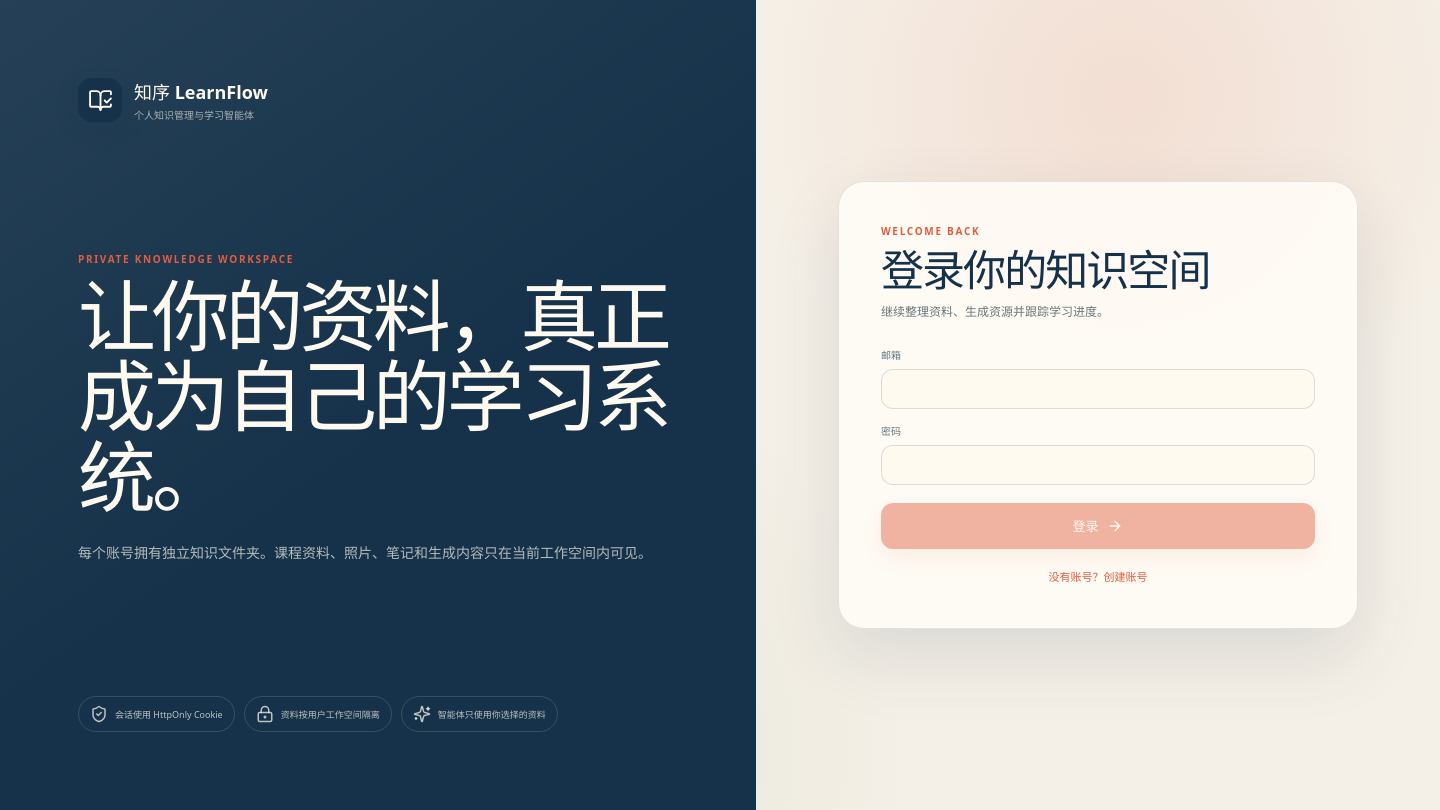
registration requires matching passwords and creates an account
The width and height of the screenshot is (1440, 810).
Click the button "没有账号？创建账号": (1098, 576) top-left (881, 567), bottom-right (1315, 585)
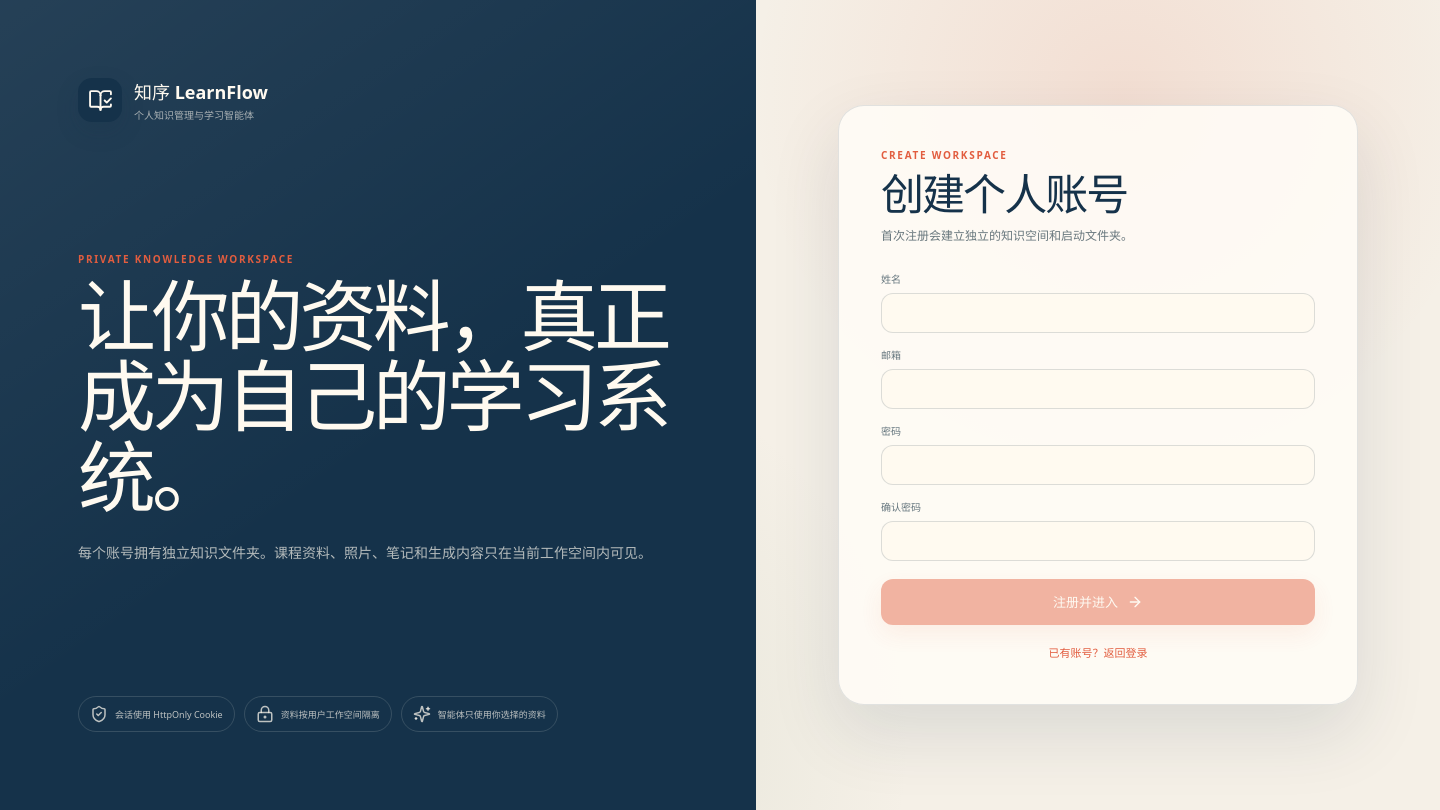
In the field labelled "姓名": (1098, 313) top-left (881, 293), bottom-right (1315, 333), type "林同学"
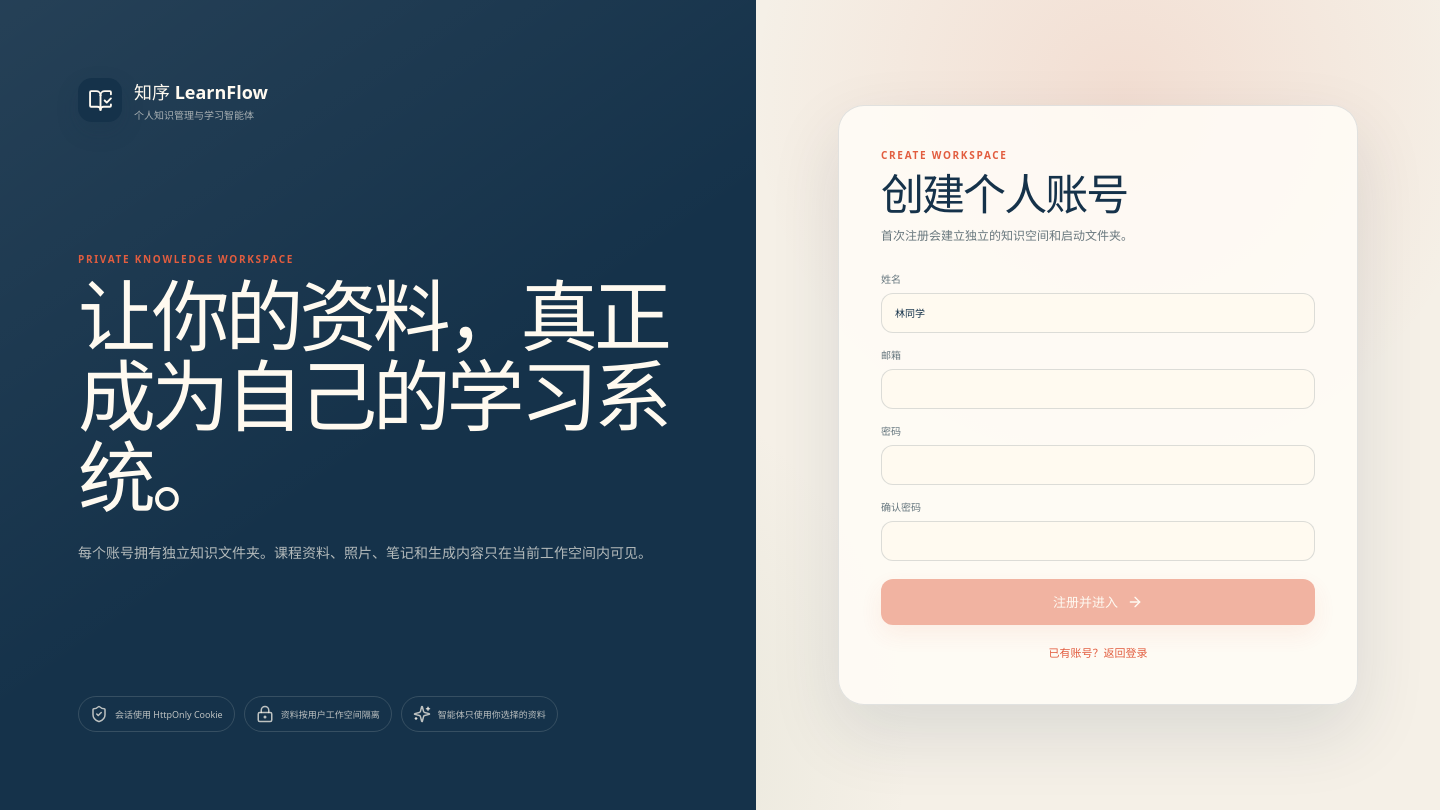
In the field labelled "邮箱": (1098, 389) top-left (881, 369), bottom-right (1315, 409), type "student@example.com"
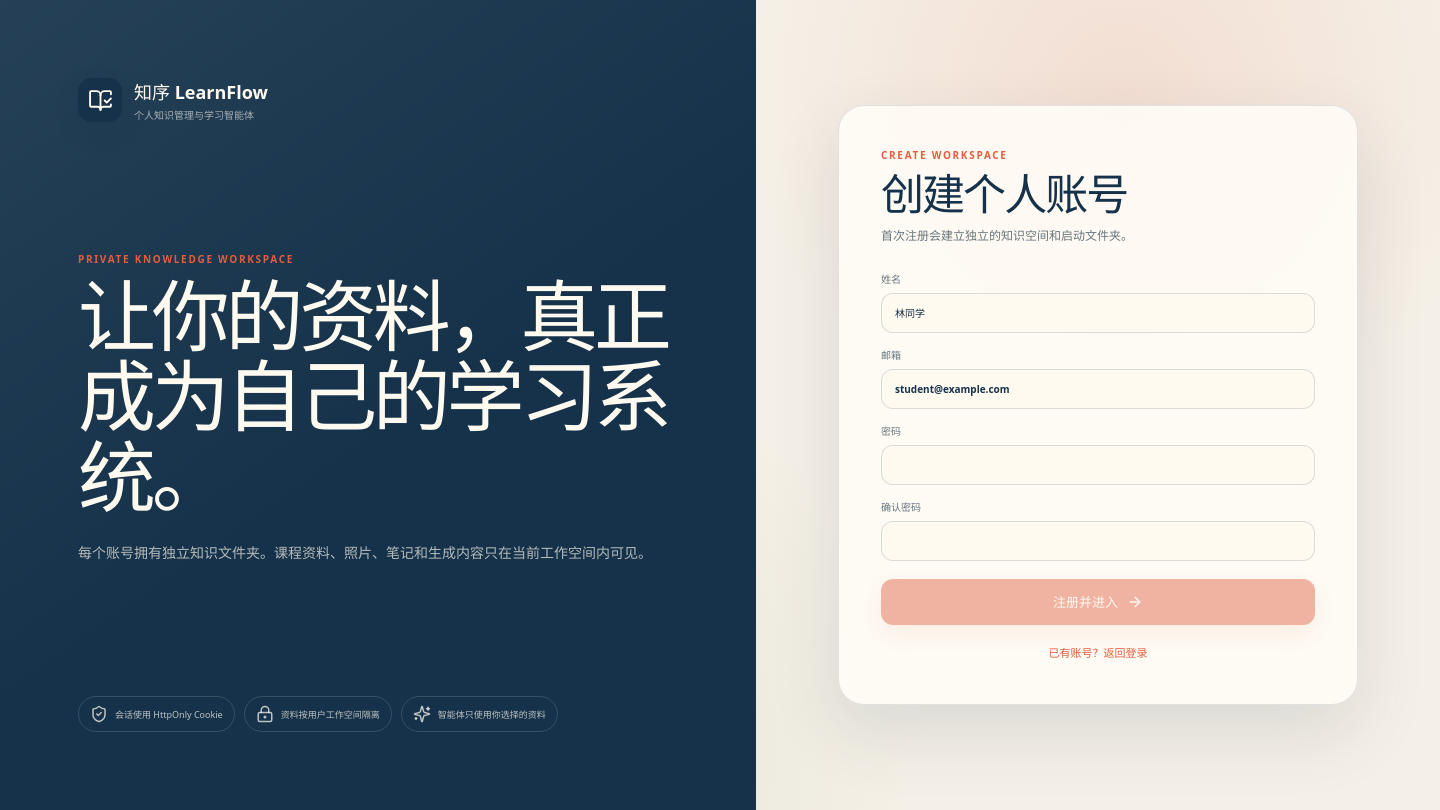
In the password field labelled "密码": (1098, 465) top-left (881, 445), bottom-right (1315, 485), type "StrongPass123"
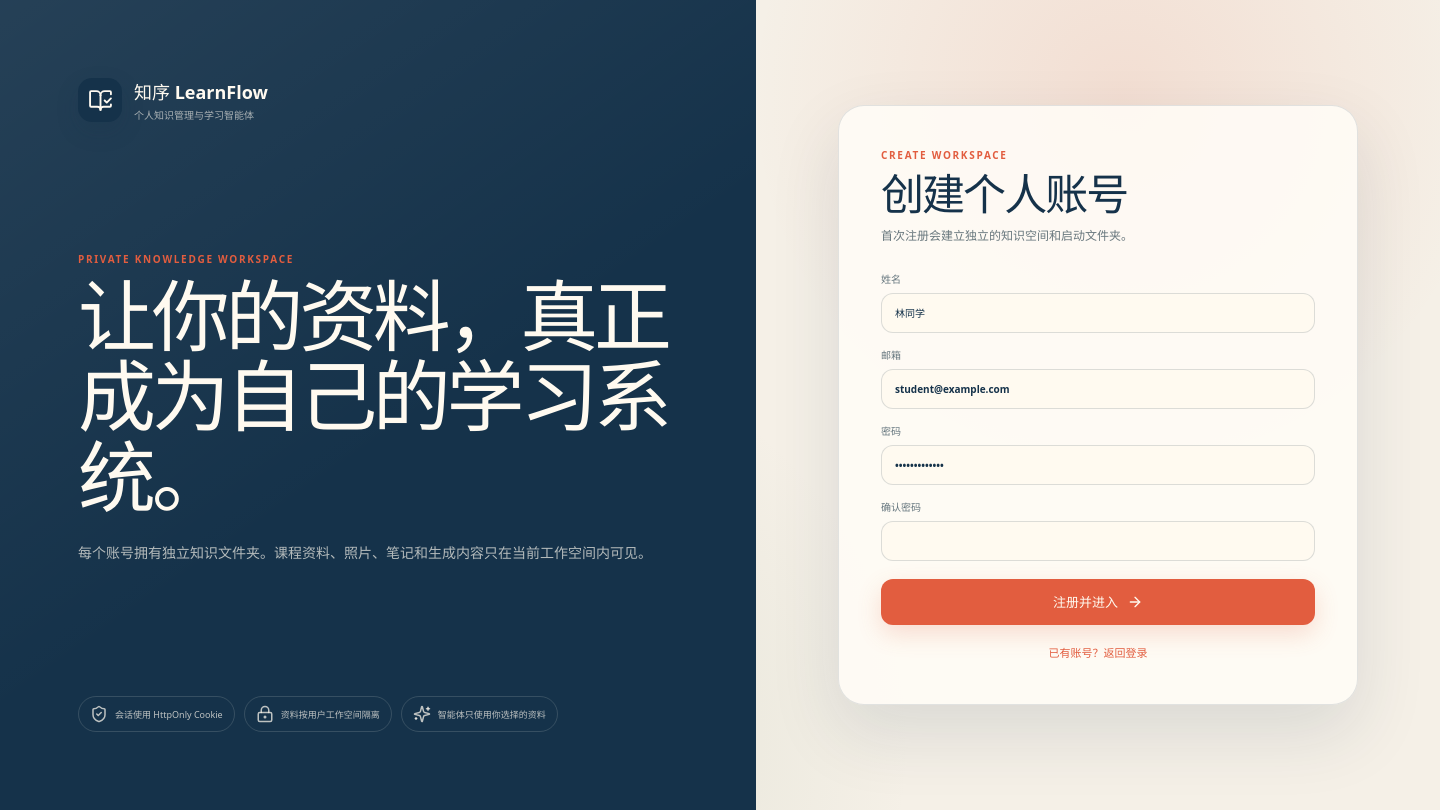
In the password field labelled "确认密码": (1098, 541) top-left (881, 521), bottom-right (1315, 561), type "DifferentPass123"
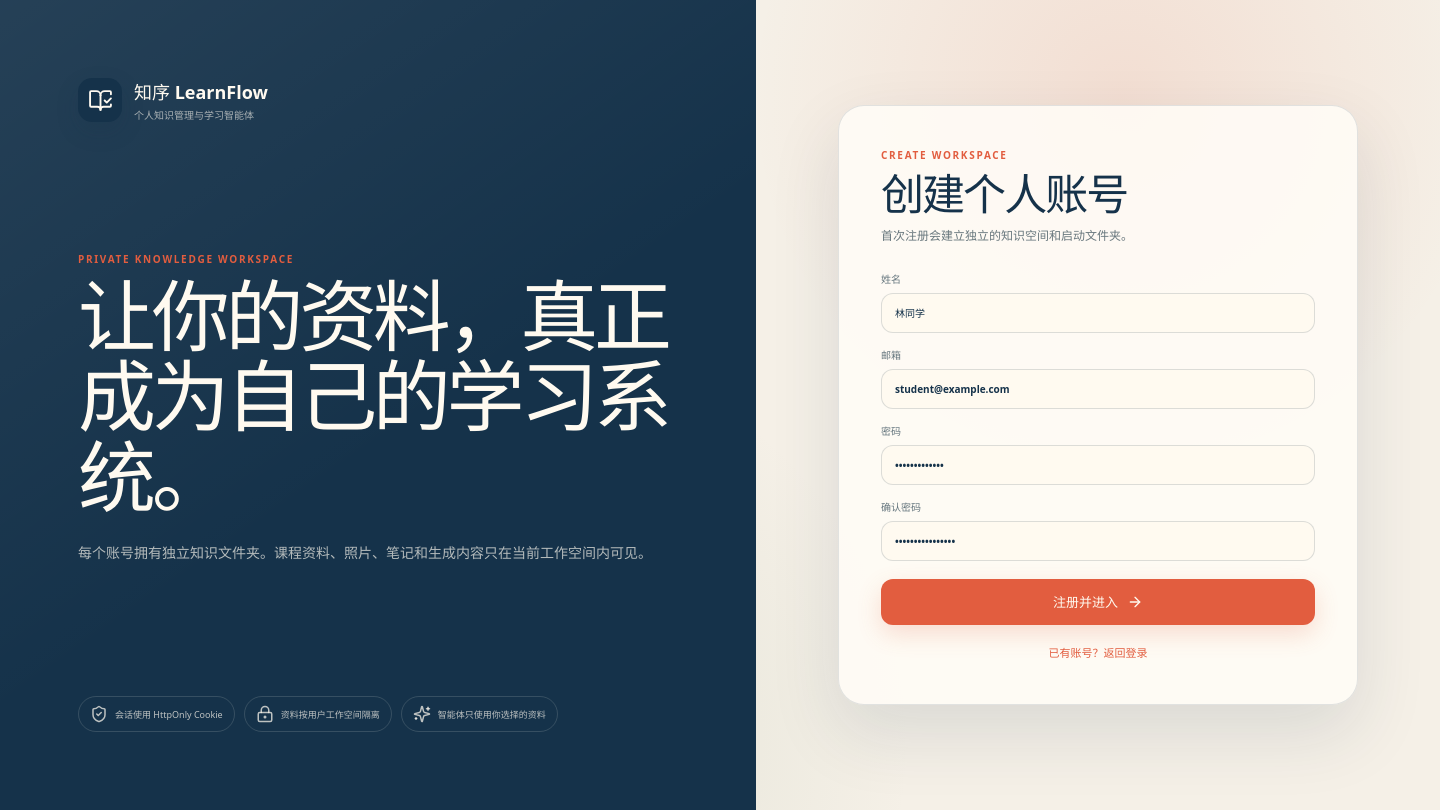
Click the button "注册并进入": (1098, 602) top-left (881, 579), bottom-right (1315, 625)
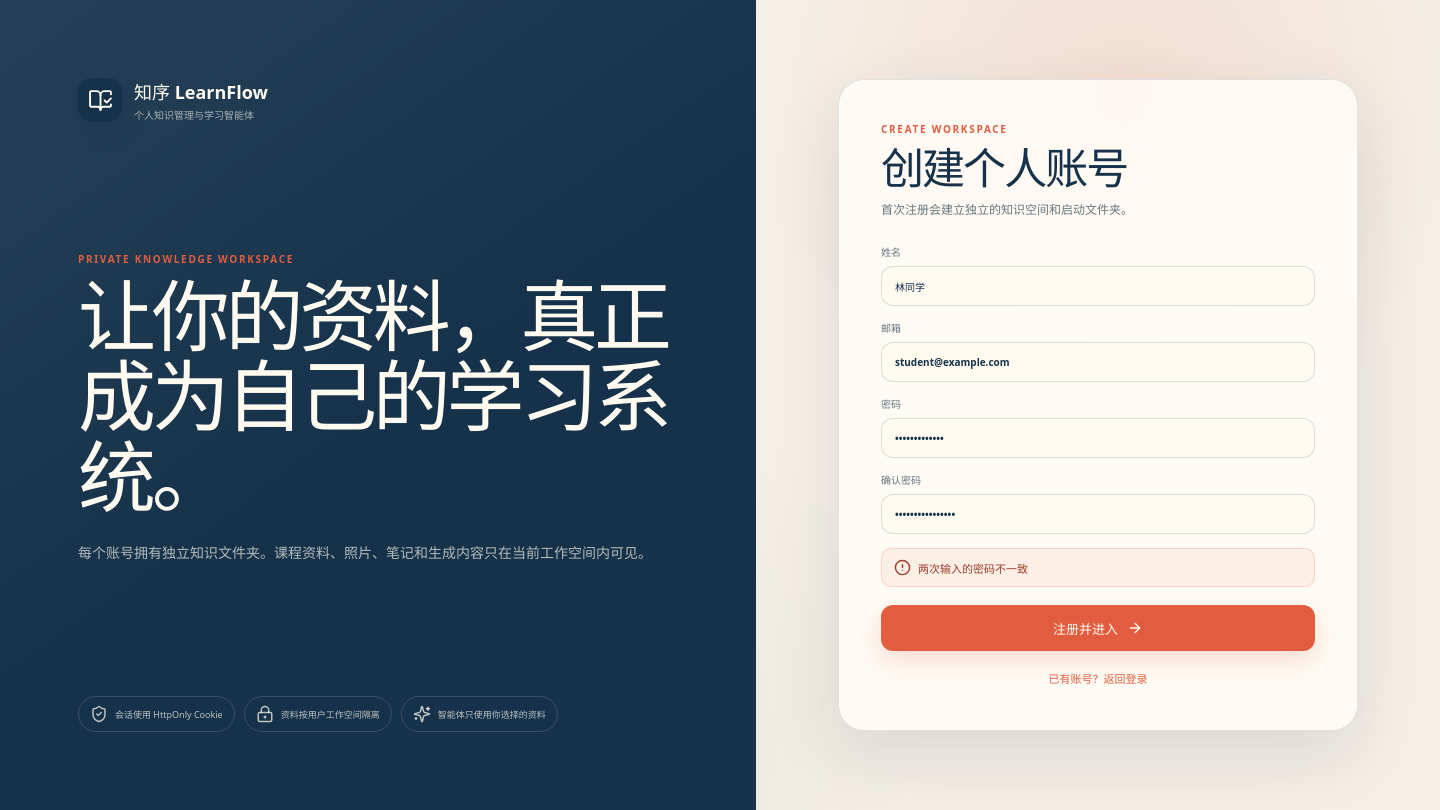
Now the message reads "两次输入的密码不一致", box top-left (918, 561), bottom-right (1028, 576)
